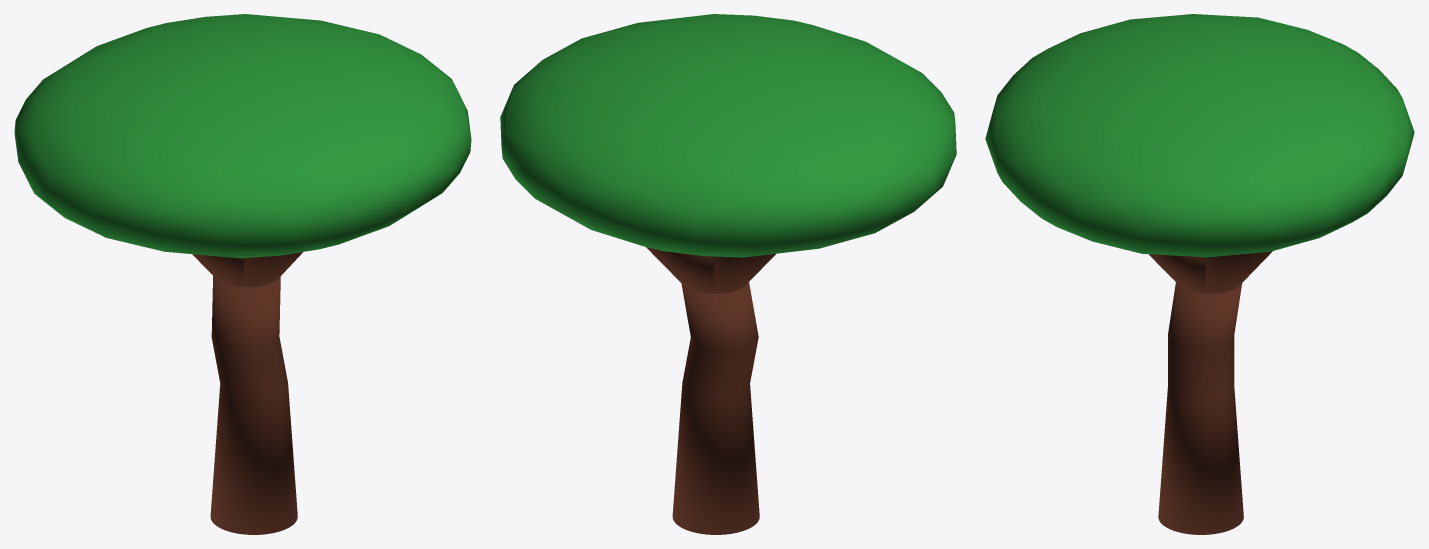
The model's file is Tree_3.fbx.
3 views of the same model, side by side, from view 1: azimuth 30°, elevation 25°; view 2: azimuth 150°, elevation 25°; view 3: azimuth 270°, elevation 25° (orthographic). The views are drawn at different scales.
Parts seen in each view (by area): view 1: Tree; view 2: Tree; view 3: Tree.
Part boxes in pixels (x1,y1,x2,y2): Tree: (14,14,471,534); Tree: (500,14,956,534); Tree: (985,14,1414,534).
Bounding box in the file's own units: 555 × 604 × 521.
